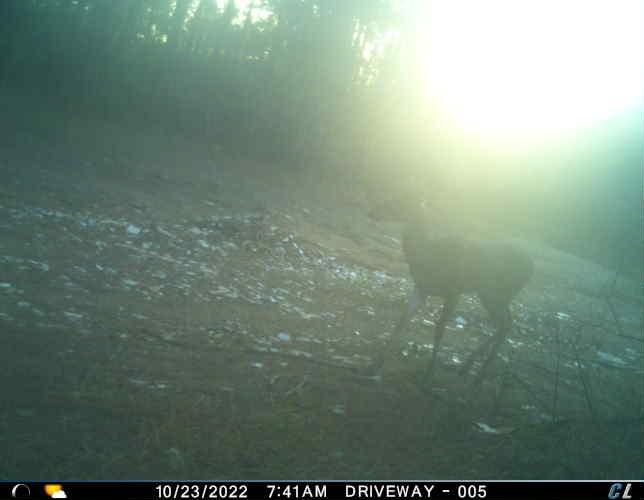Deer: (367, 184, 538, 383)
